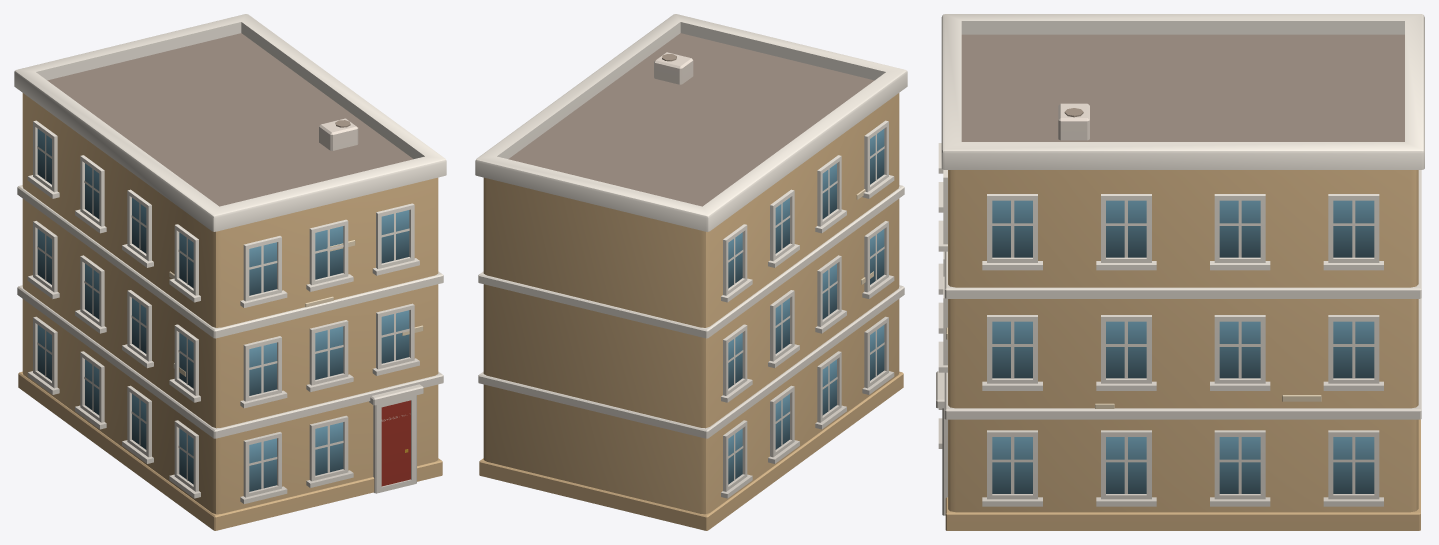
The model's file is beacon_n9.glb.
The picture shows the model from 3 angles, left to right: view 1: azimuth 30°, elevation 25°; view 2: azimuth 150°, elevation 25°; view 3: azimuth 270°, elevation 25°; orthographic projection. The views are drawn at different scales.
Visible parts, largest first — view 1: beacon_n9; view 2: beacon_n9; view 3: beacon_n9.
Boxes of the visible parts, <box> form: beacon_n9: <box>14,14,446,530</box>; beacon_n9: <box>475,14,907,530</box>; beacon_n9: <box>936,14,1424,530</box>.
Size of the model in its own units: 8.48 by 11.03 by 12.46.
Materials: 1 (1 with a texture image).
